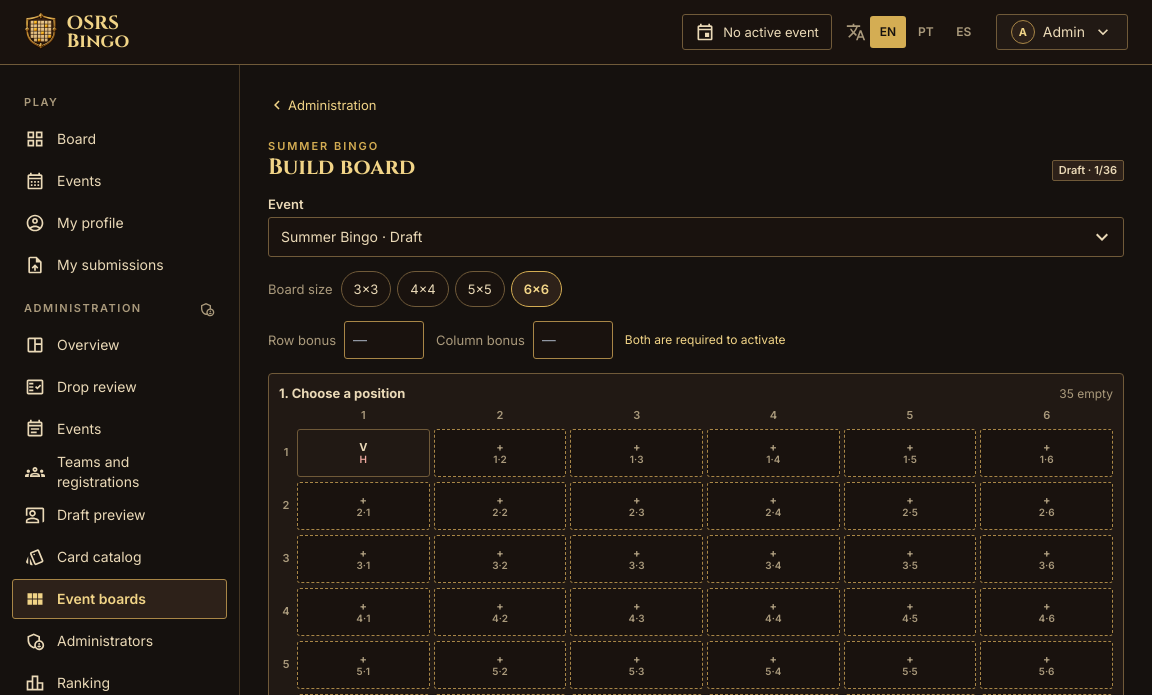
Test case: board builder v2 › mobile › picks a position first, then places a card on it
Select "Summer Bingo · Draft" in the dropdown labelled "Event" at coordinates (696, 237), box [268,217,1124,257]
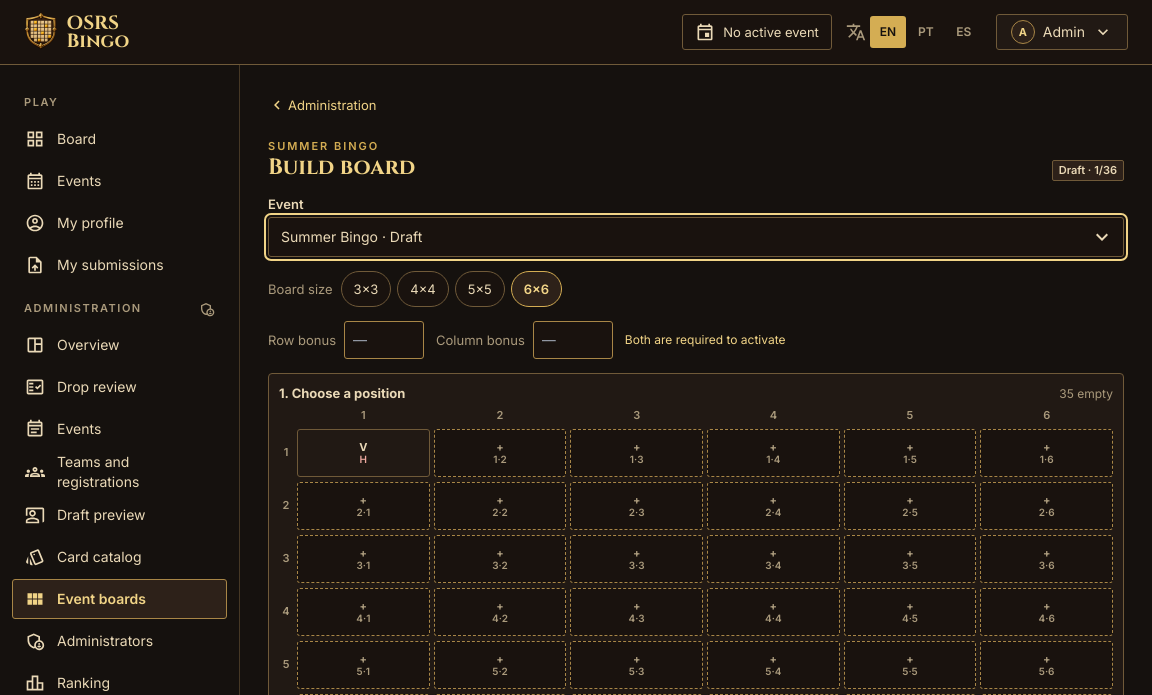
Expected: the text "Draft · 1/36" is shown, [1052,160,1124,181]
Expected: the element "1. Choose a position" shows "35 empty", [1059,386,1113,401]
Click the button named "Position 2·5 empty — choose card" at coordinates (910, 506), box [844,482,976,530]
(page scrolled)
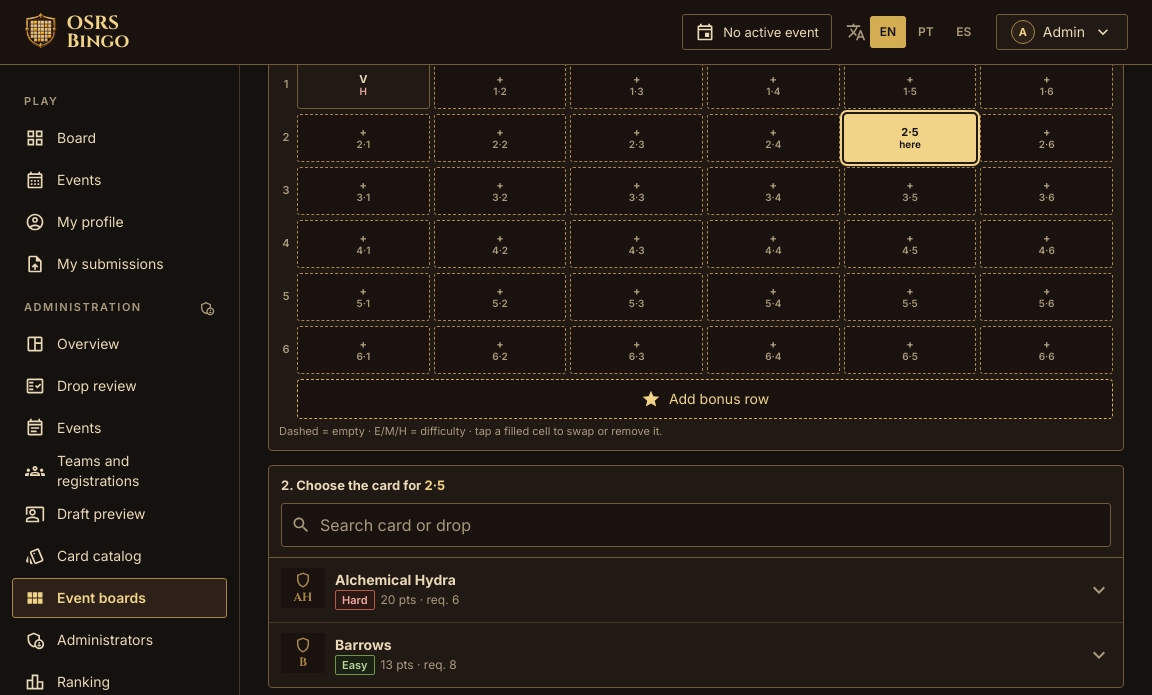
Click the button "Alchemical Hydra Hard 20 pts · req. 6" at coordinates (395, 579), box [335,568,1111,612]
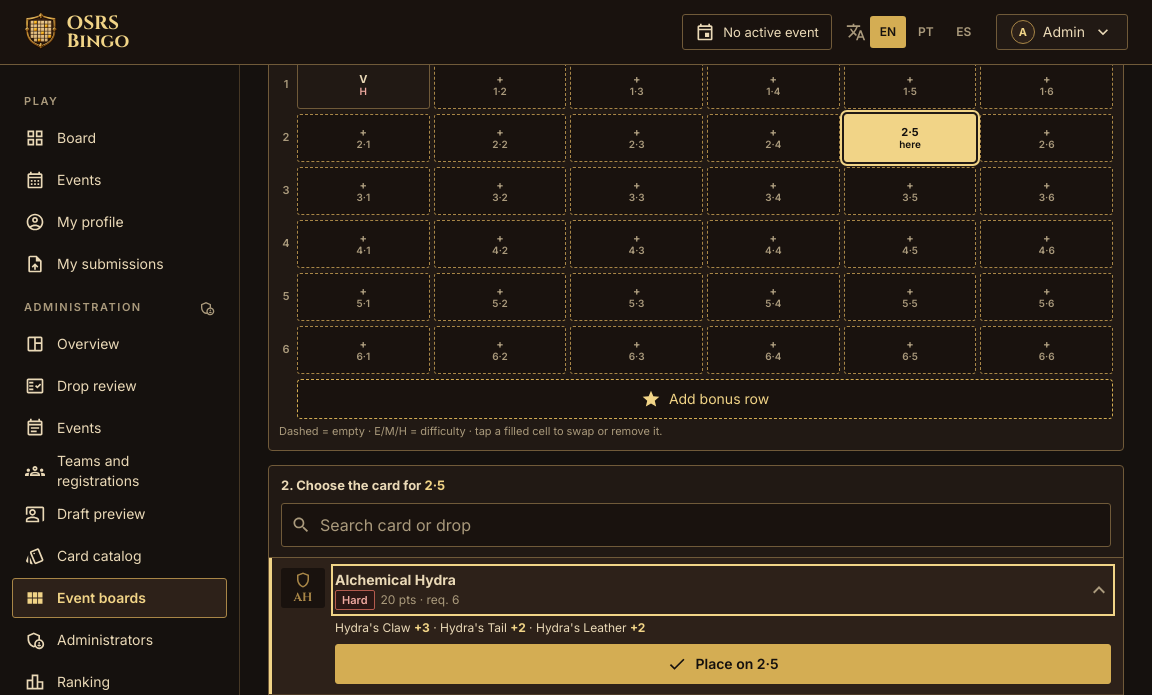
Now the text "Hydra's Claw" is shown, box [335,620,411,635]
Click the button "Place on 2·5" at coordinates (723, 664), box [335,644,1111,684]
(page scrolled)
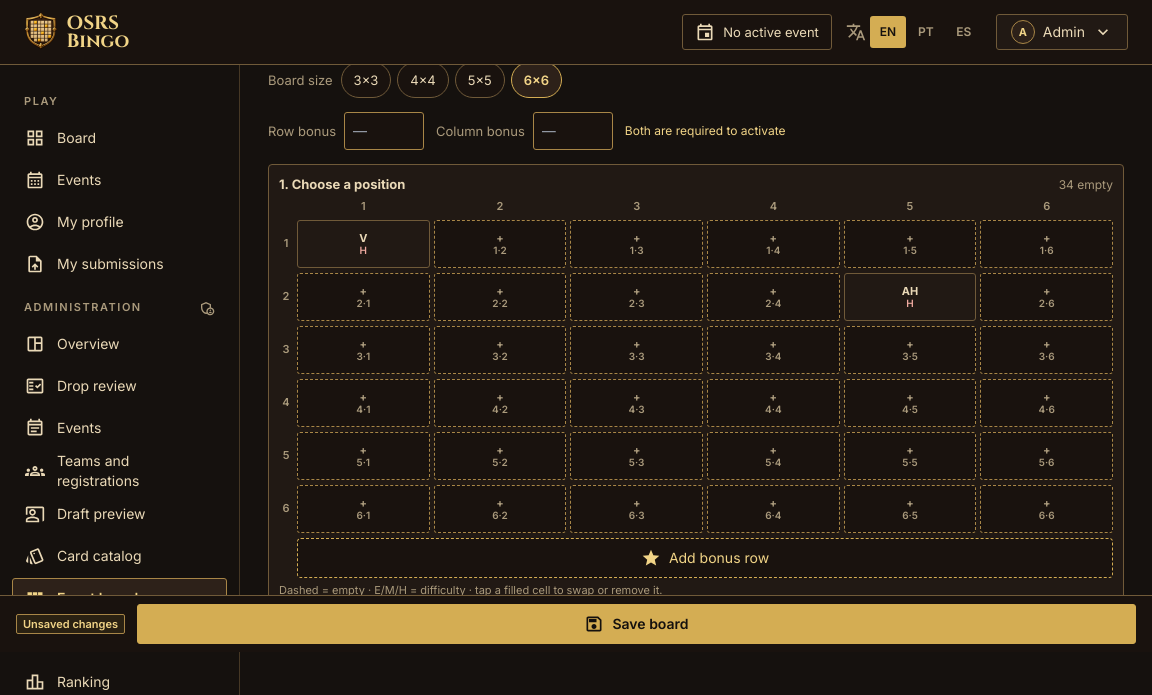
Expected: the button with aria-label "Position 2·5: Alchemical Hydra" is shown, [844,273,976,321]
Now the button "Save board" is shown, box [137,604,1136,644]
